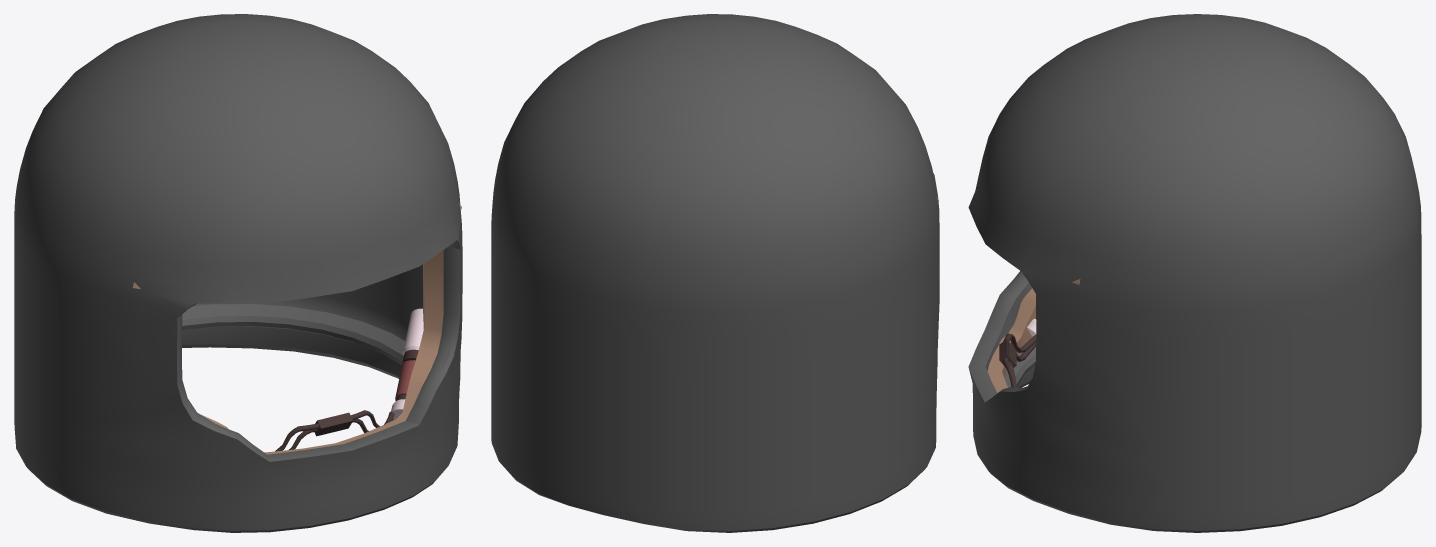
File: Helmet.fbx
The picture shows the model from 3 angles, left to right: view 1: azimuth 30°, elevation 25°; view 2: azimuth 150°, elevation 25°; view 3: azimuth 270°, elevation 25°; orthographic projection.
Parts seen in each view (by area): view 1: Sphere.013; view 2: Sphere.013; view 3: Sphere.013.
Boxes of the visible parts, x1,y1,x2,y2 form: Sphere.013: (14,14,462,532); Sphere.013: (491,14,939,532); Sphere.013: (968,14,1421,532).
Size of the model in its own units: 195 by 192 by 197.
